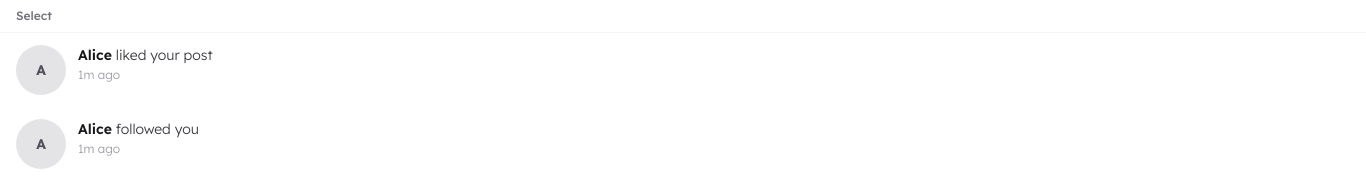
NotificationList › toggles individual selection
The width and height of the screenshot is (1366, 186).
Click the button "Select" at (34, 16), box x1=16 y1=8 x2=52 y2=24
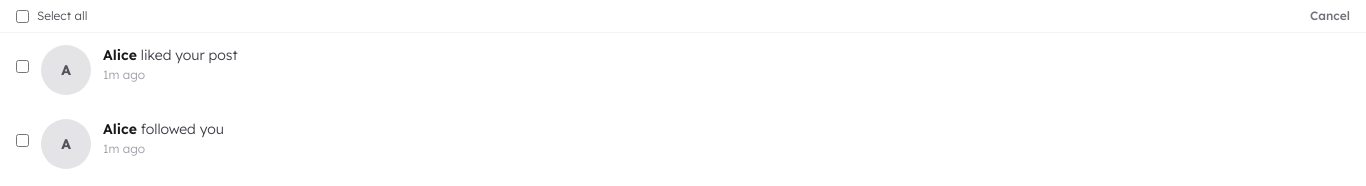
// checkboxes[0] is "select all", checkboxes[1] and [2] are rows
Click the checkbox in the row of "liked your post" at (22, 66), box x1=16 y1=60 x2=29 y2=73
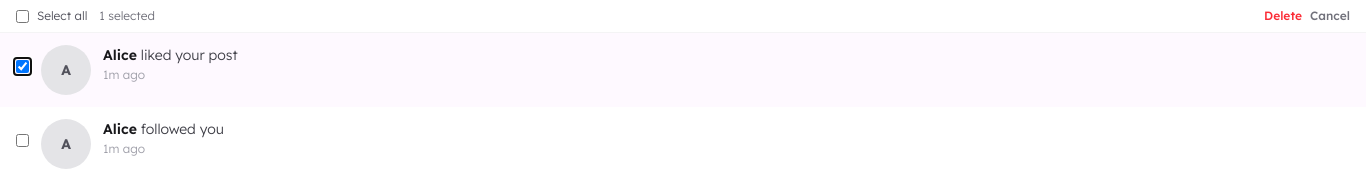
Check: the checkbox in the row of "liked your post" is checked, box x1=16 y1=60 x2=29 y2=73
Check: the checkbox in the row of "followed you" is not checked, box x1=16 y1=134 x2=29 y2=147
Check: the text "1 selected" is shown, box x1=99 y1=8 x2=155 y2=24
